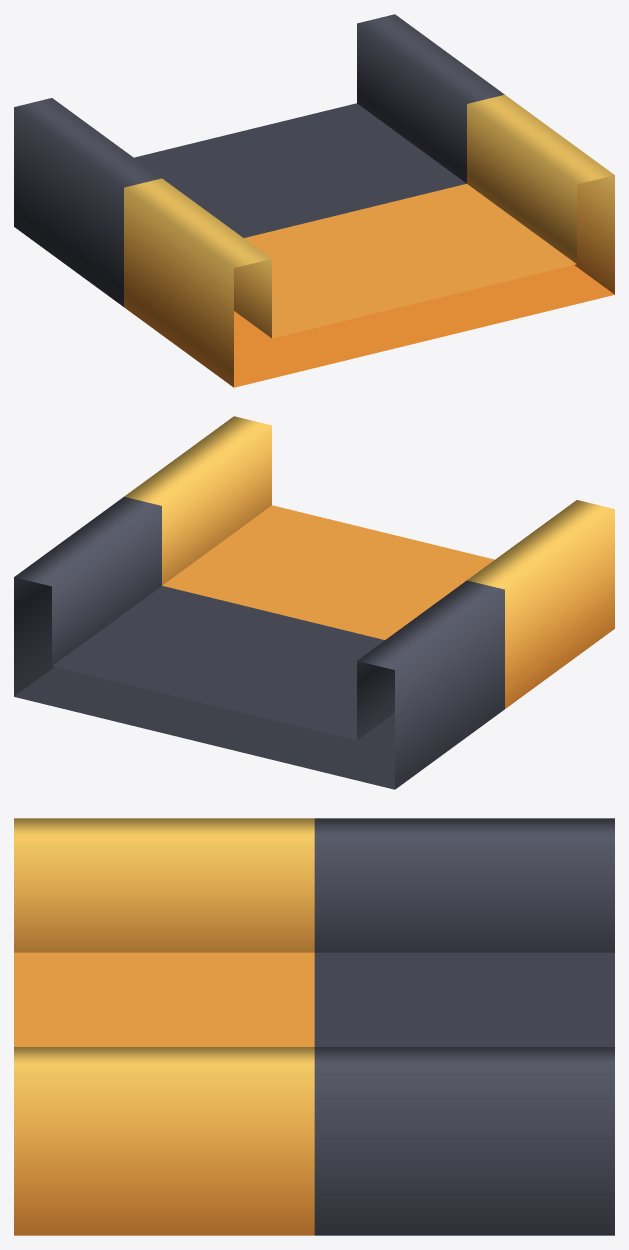
File: track-striped-narrow.fbx
3 renders of one model, top to bottom at view 1: azimuth 30°, elevation 25°; view 2: azimuth 150°, elevation 25°; view 3: azimuth 270°, elevation 25°, orthographic. The views are drawn at different scales.
Visible parts, largest first — view 1: track-striped-narrow; view 2: track-striped-narrow; view 3: track-striped-narrow.
Part boxes in pixels (x1,y1,x2,y2): track-striped-narrow: (14, 14, 614, 387); track-striped-narrow: (14, 416, 614, 789); track-striped-narrow: (14, 818, 614, 1235).
Size of the model in its own units: 100 by 30 by 100.
